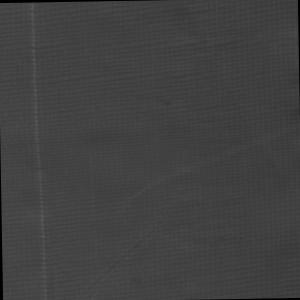Wrinkle: (86, 1, 300, 219), (64, 198, 185, 300), (23, 3, 54, 300)
